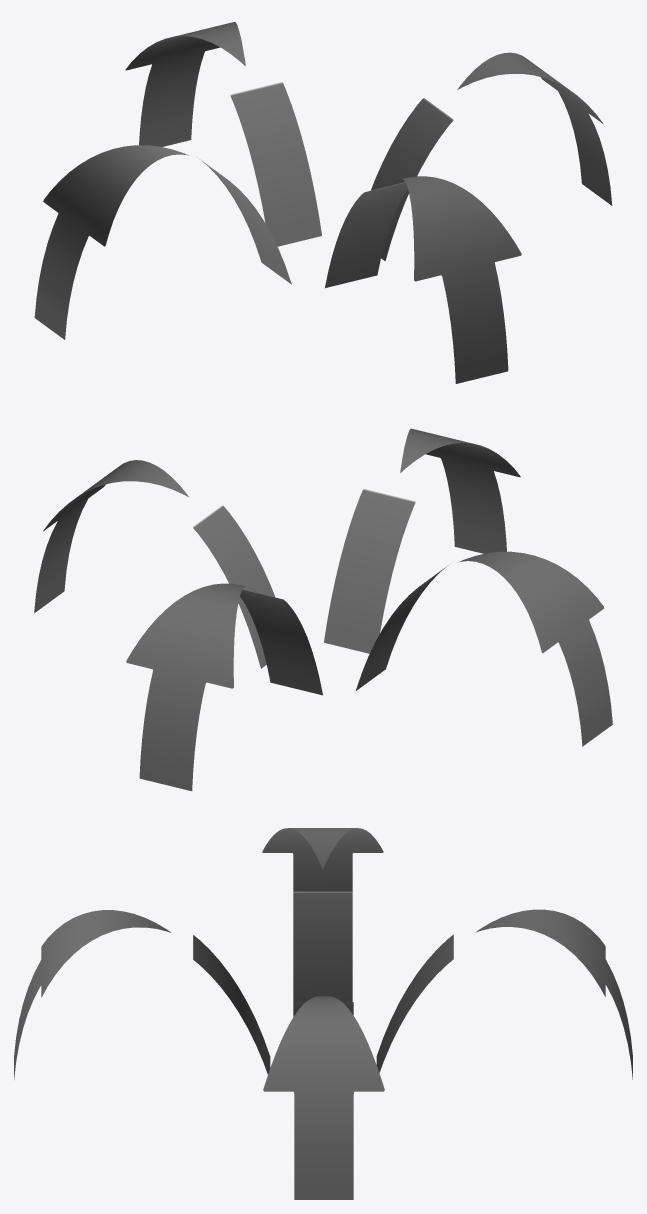
The model's file is Arrow_02.FBX.
3 renders of one model, top to bottom at view 1: azimuth 30°, elevation 25°; view 2: azimuth 150°, elevation 25°; view 3: azimuth 270°, elevation 25°, orthographic. The views are drawn at different scales.
Visible parts, largest first — view 1: Plane002; view 2: Plane002; view 3: Plane002.
Part boxes in pixels (x1=…): Plane002: x1=34, y1=22, x2=612, y2=383; Plane002: x1=34, y1=428, x2=612, y2=791; Plane002: x1=14, y1=828, x2=632, y2=1199.
Size of the model in its own units: 11323 by 11323 by 3013.
